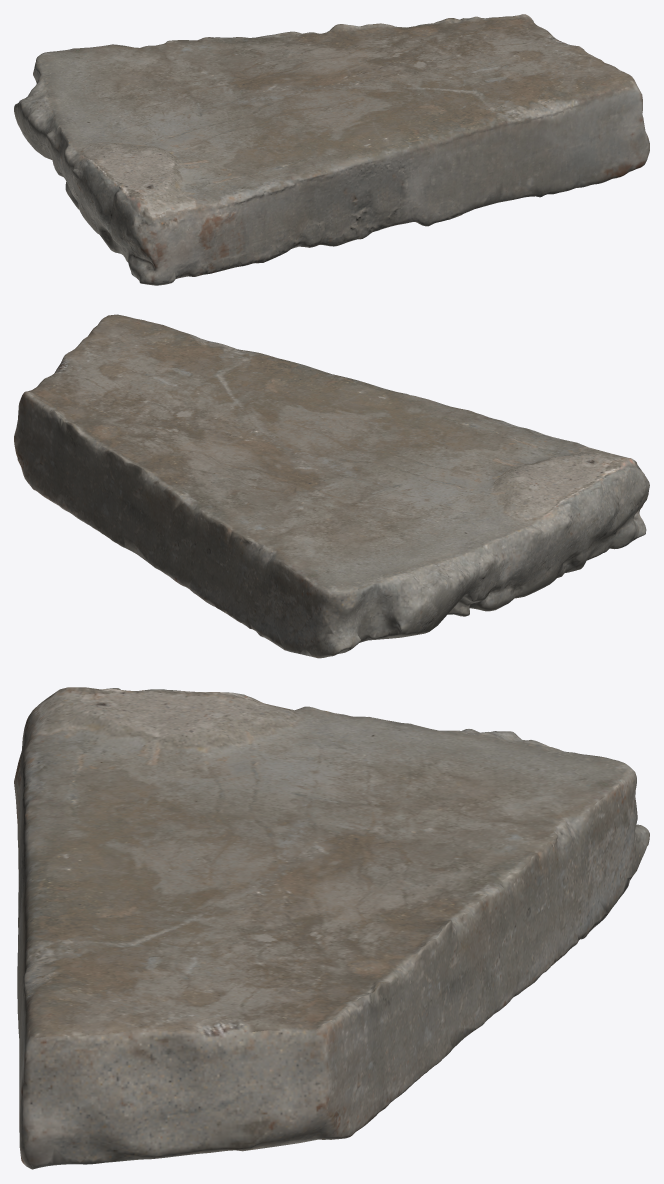
Rendered from Rock2.fbx.
3 views of the same model, one above another, from view 1: azimuth 30°, elevation 25°; view 2: azimuth 150°, elevation 25°; view 3: azimuth 270°, elevation 25° (orthographic). The views are drawn at different scales.
Parts seen in each view (by area): view 1: Aset_debris_construction_S_tmkhdecva_01_LOD0; view 2: Aset_debris_construction_S_tmkhdecva_01_LOD0; view 3: Aset_debris_construction_S_tmkhdecva_01_LOD0.
Boxes of the visible parts, x1=… form: Aset_debris_construction_S_tmkhdecva_01_LOD0: x1=14, y1=14, x2=649, y2=285; Aset_debris_construction_S_tmkhdecva_01_LOD0: x1=14, y1=314, x2=649, y2=658; Aset_debris_construction_S_tmkhdecva_01_LOD0: x1=14, y1=687, x2=649, y2=1169.
Size of the model in its own units: 54.5 by 9.4 by 38.48.
